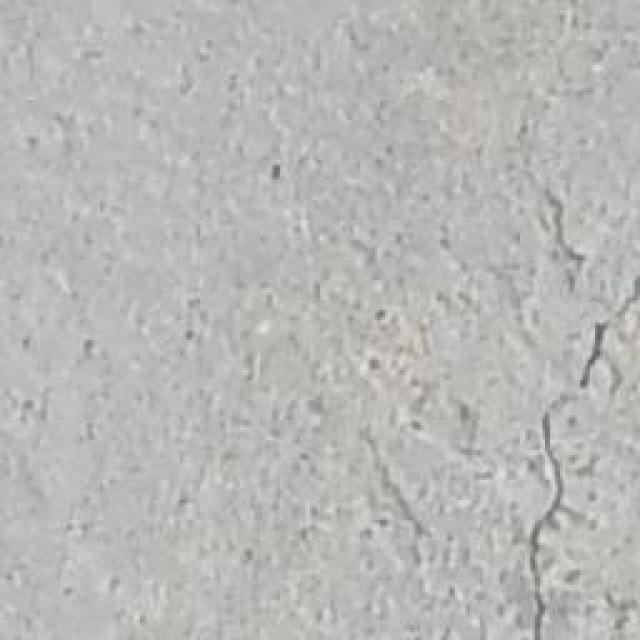concrete-crack: (525, 307, 614, 637)
